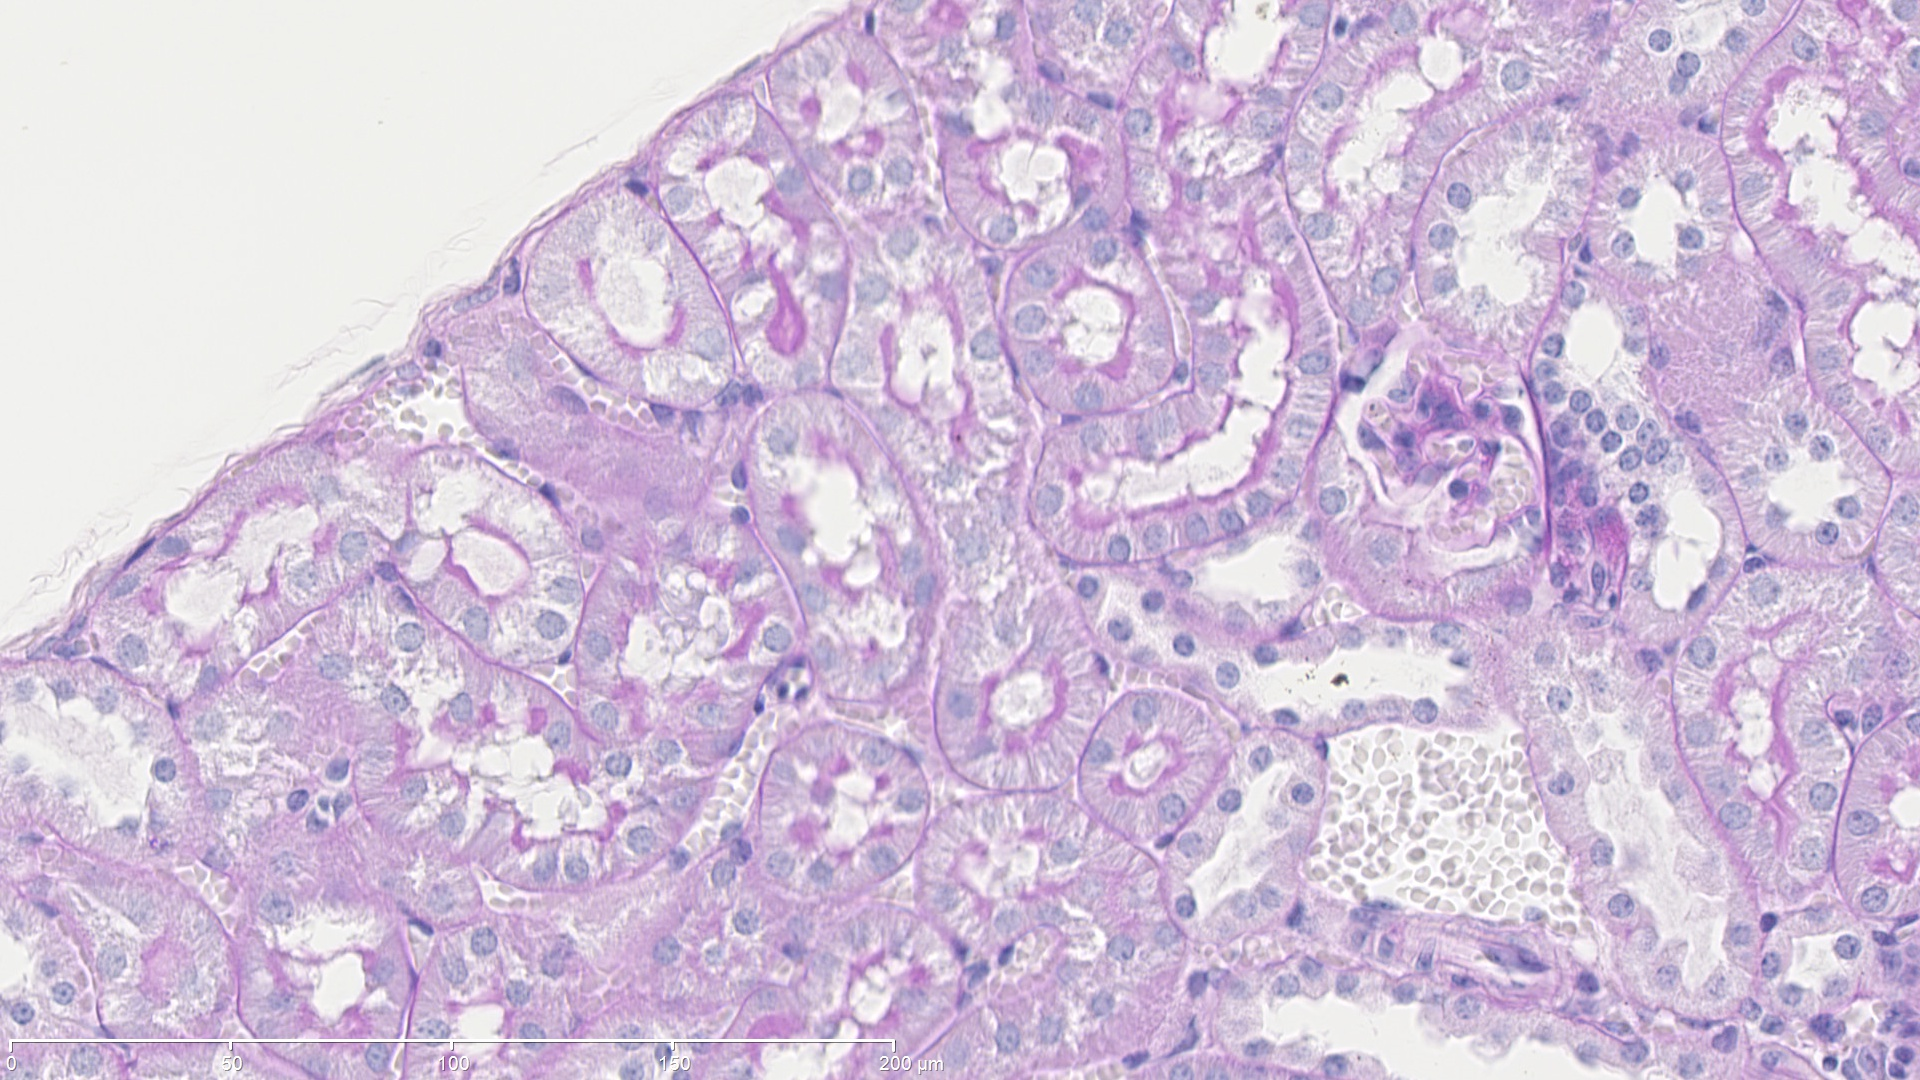Glomeruli: (1357, 336, 1549, 542)
